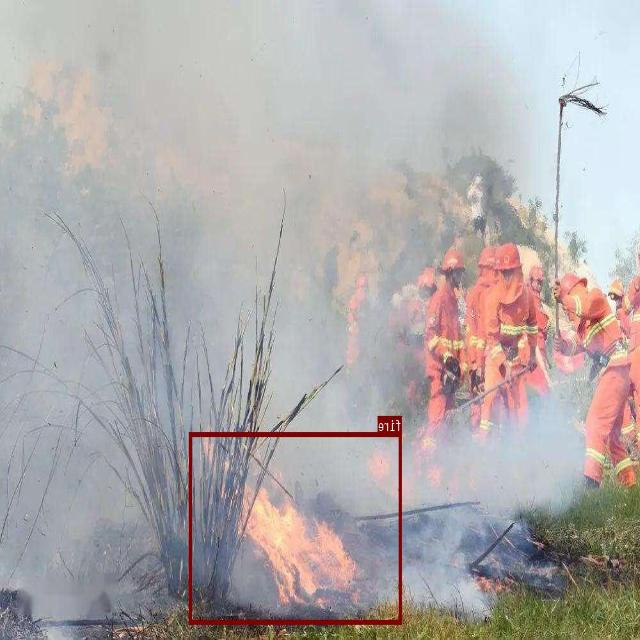fire: (190, 431, 402, 623)
